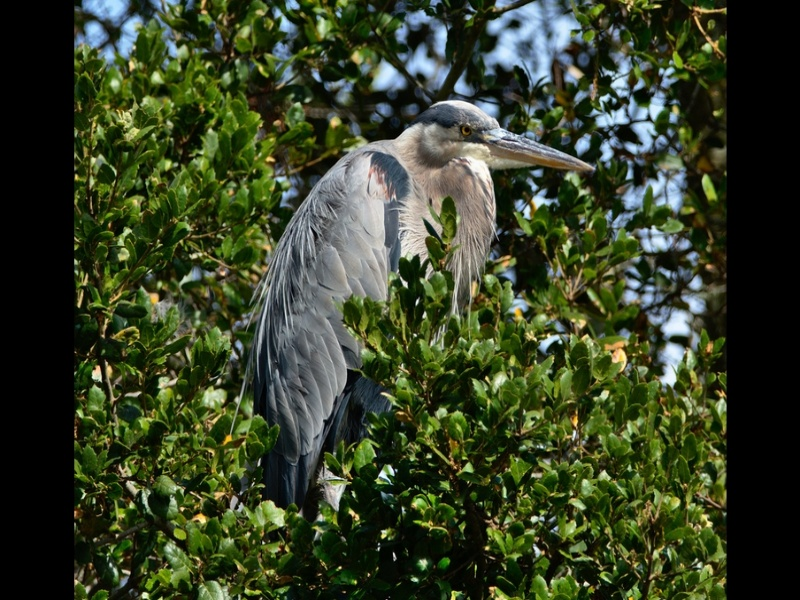heron: (246, 96, 598, 503)
